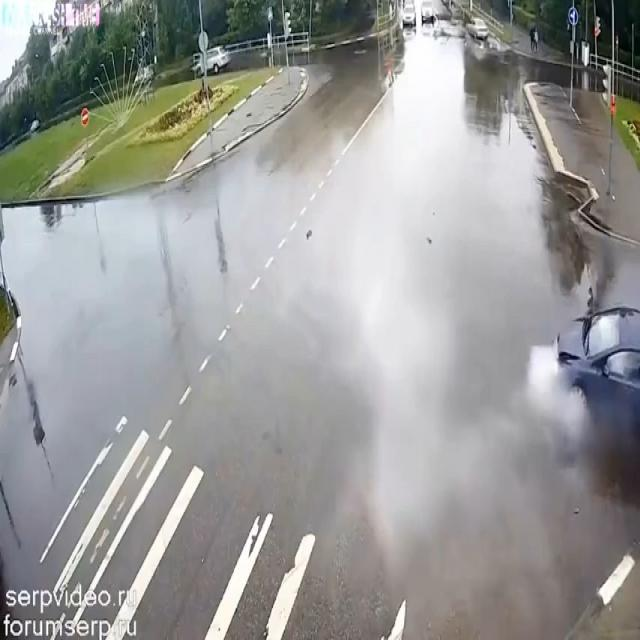Accident: (506, 278, 640, 474)
